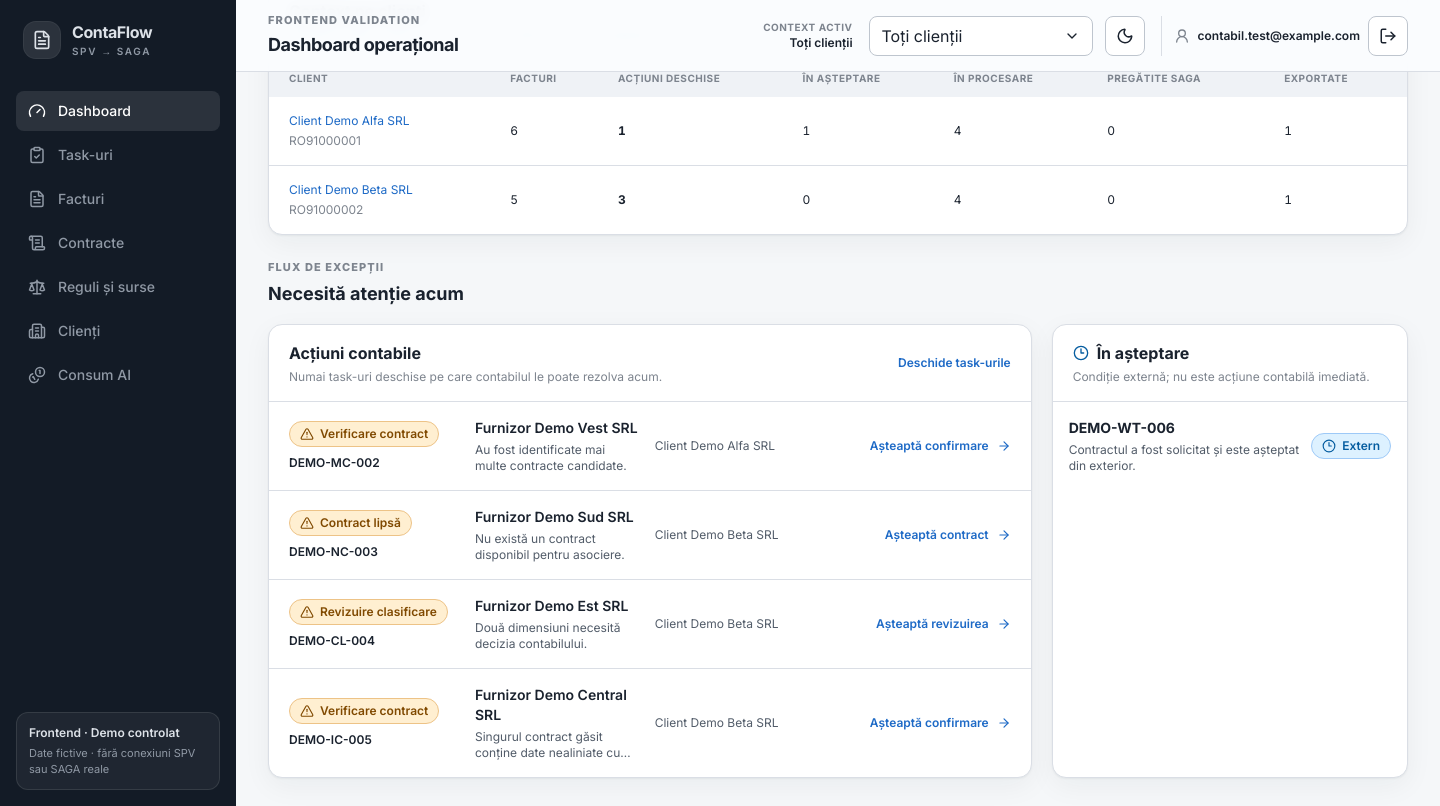
Test: Complete Dashboard › updates attention immediately after resolving a contract task and returning
(page scrolled)
Click the text "DEMO-MC-002" at (334, 462), box top-left (289, 455), bottom-right (380, 470)
(page scrolled)
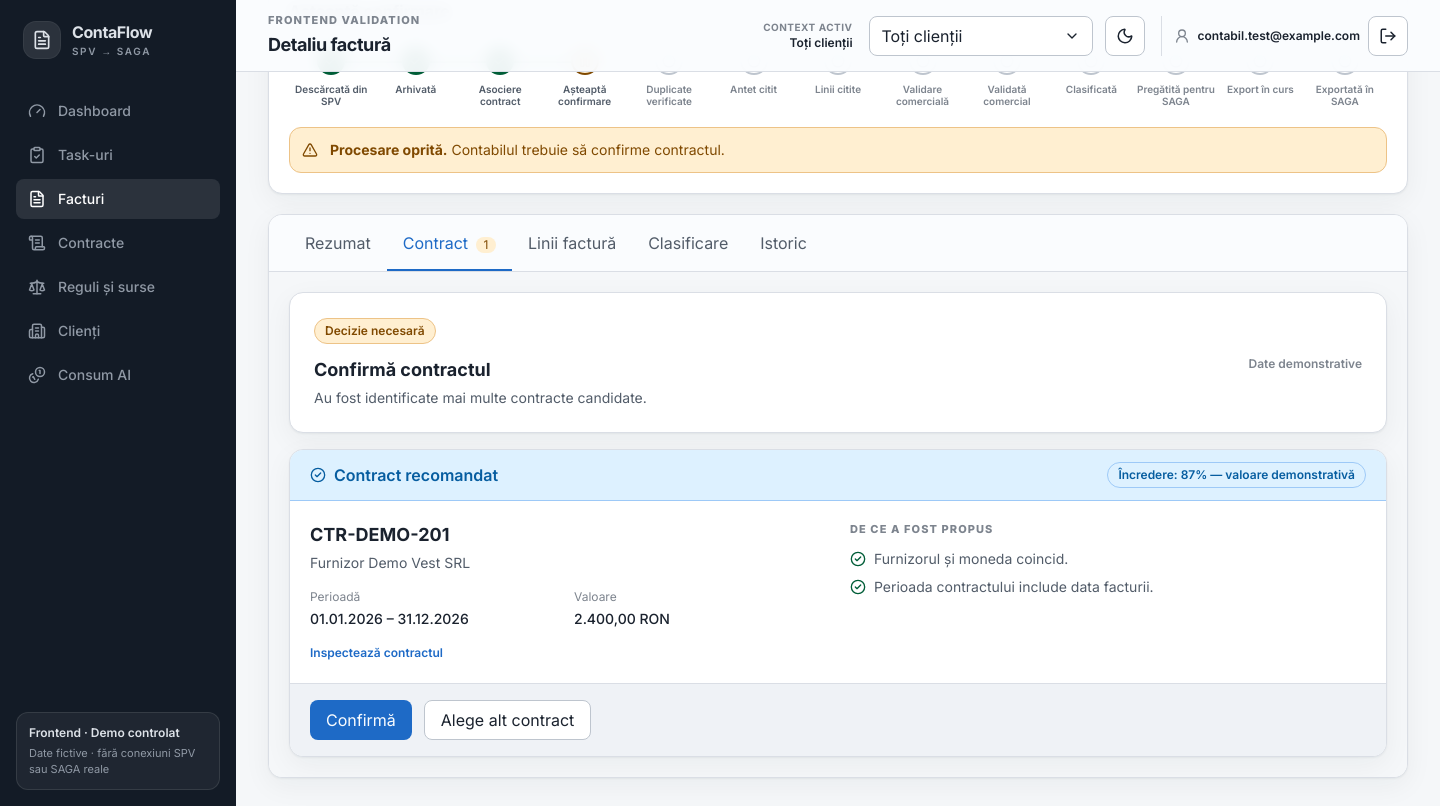
Click the button "Confirmă" at (361, 720), box top-left (310, 700), bottom-right (412, 740)
(page scrolled)
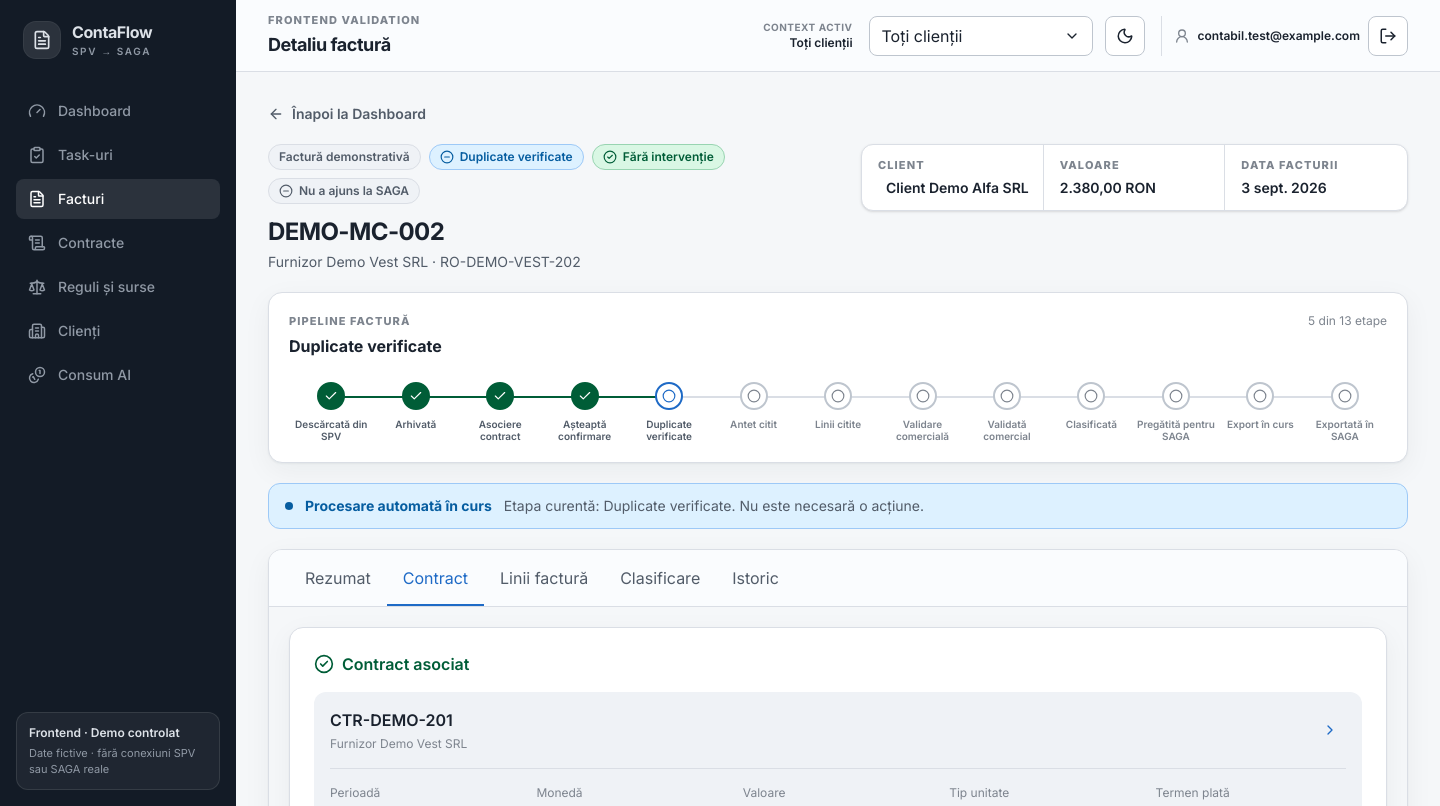
Click the link "Înapoi la Dashboard" at (347, 114), box top-left (268, 104), bottom-right (426, 124)
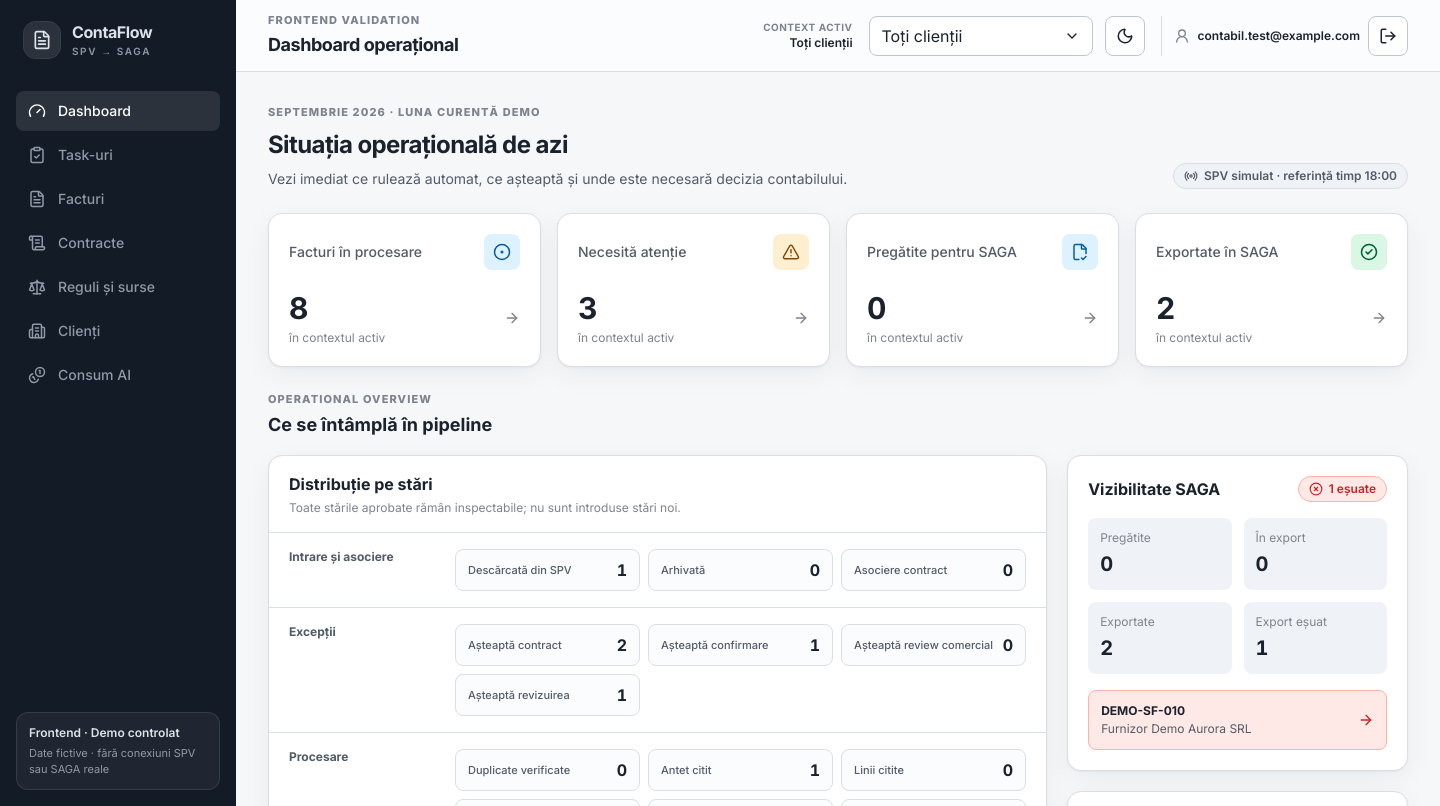
Expected: the text "3" is shown, top-left (578, 290), bottom-right (597, 326)
Expected: the heading "DEMO-MC-002" is gone
